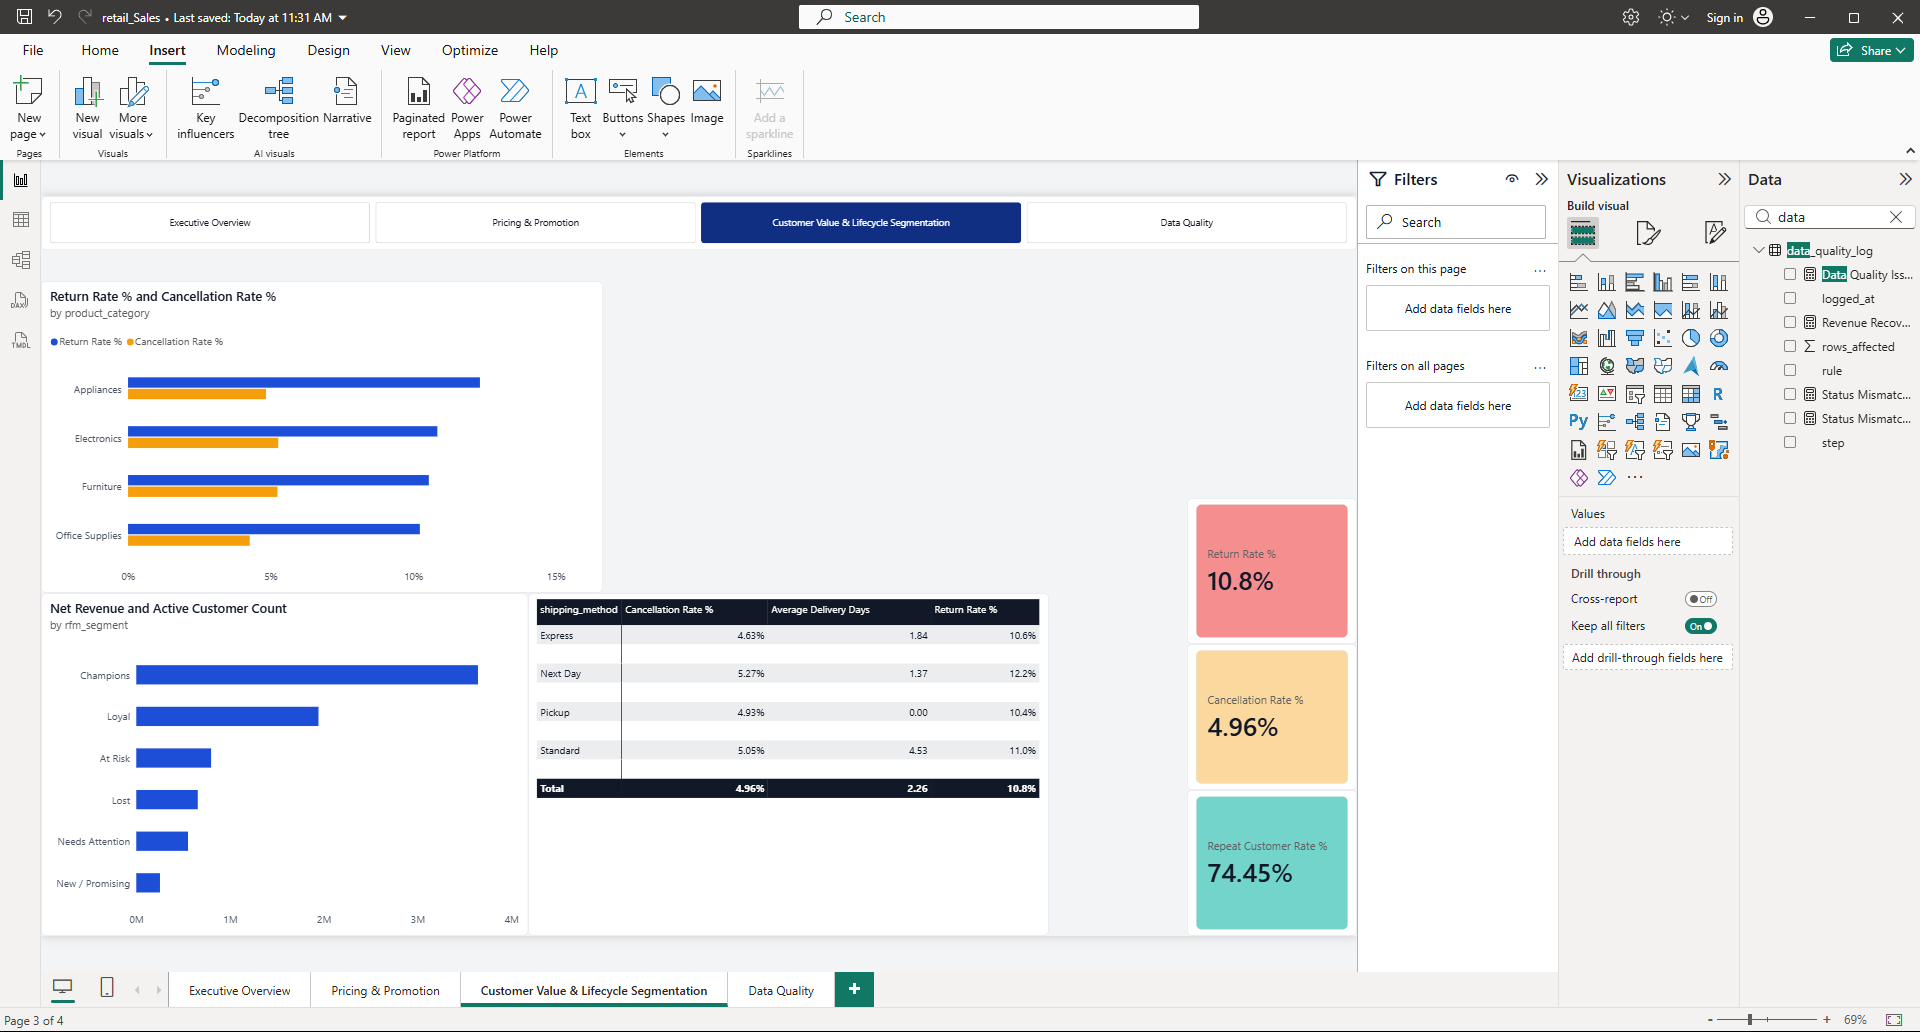

The dashboard page shown, as its layout file describes it:
{"tool":"powerbi","page":{"name":"Customer Value & Lifecycle Segmentation","canvas":[1920,1080],"ordinal":2},"visuals":[{"type":"pageNavigator","box":[0,0,1920,78.8],"z":0},{"type":"barChart","fields":{"Category":["v_customer_rfm.rfm_segment"],"Y":["fact_sales.Net Revenue"]},"box":[0,579.2,710.5,500.4],"z":1000},{"type":"cardVisual","fields":{"Data":["fact_sales.Repeat Customer Rate %"]},"box":[1672,866.6,248,213],"z":2000},{"type":"cardVisual","fields":{"Data":["fact_sales.Cancellation Rate %"]},"box":[1672,653.6,248,213],"z":3000},{"type":"cardVisual","fields":{"Data":["fact_sales.Return Rate %"]},"box":[1672,440.6,248,213],"z":4000},{"type":"clusteredBarChart","fields":{"Category":["dim_product.product_category"],"Y":["fact_sales.Return Rate %","fact_sales.Cancellation Rate %"]},"box":[0,124,819.9,455.2],"z":5000},{"type":"pivotTable","fields":{"Rows":["fact_sales.shipping_method"],"Values":["fact_sales.Cancellation Rate %","fact_sales.Average Delivery Days","fact_sales.Return Rate %"]},"box":[710.5,579.2,760.1,500.4],"z":6000}]}

Visuals, with their boxes on the page's 1920x1080 design canvas (x1, y1, x2, y2). These are canvas units, not pixel positions in the 1920x1032 screenshot, which may show the page scaled, cropped or inside an application window:
pageNavigator: <box>0,0,1920,79</box>
barChart - v_customer_rfm.rfm_segment x fact_sales.Net Revenue: <box>0,579,710,1080</box>
cardVisual - fact_sales.Repeat Customer Rate %: <box>1672,867,1920,1080</box>
cardVisual - fact_sales.Cancellation Rate %: <box>1672,654,1920,867</box>
cardVisual - fact_sales.Return Rate %: <box>1672,441,1920,654</box>
clusteredBarChart - dim_product.product_category x fact_sales.Return Rate %: <box>0,124,820,579</box>
pivotTable - fact_sales.shipping_method x fact_sales.Cancellation Rate %: <box>710,579,1471,1080</box>
